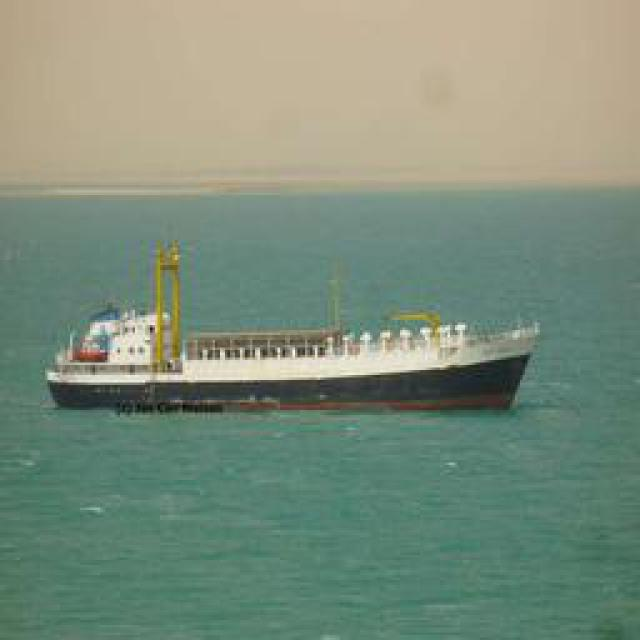Ship: (61, 280, 546, 415)
